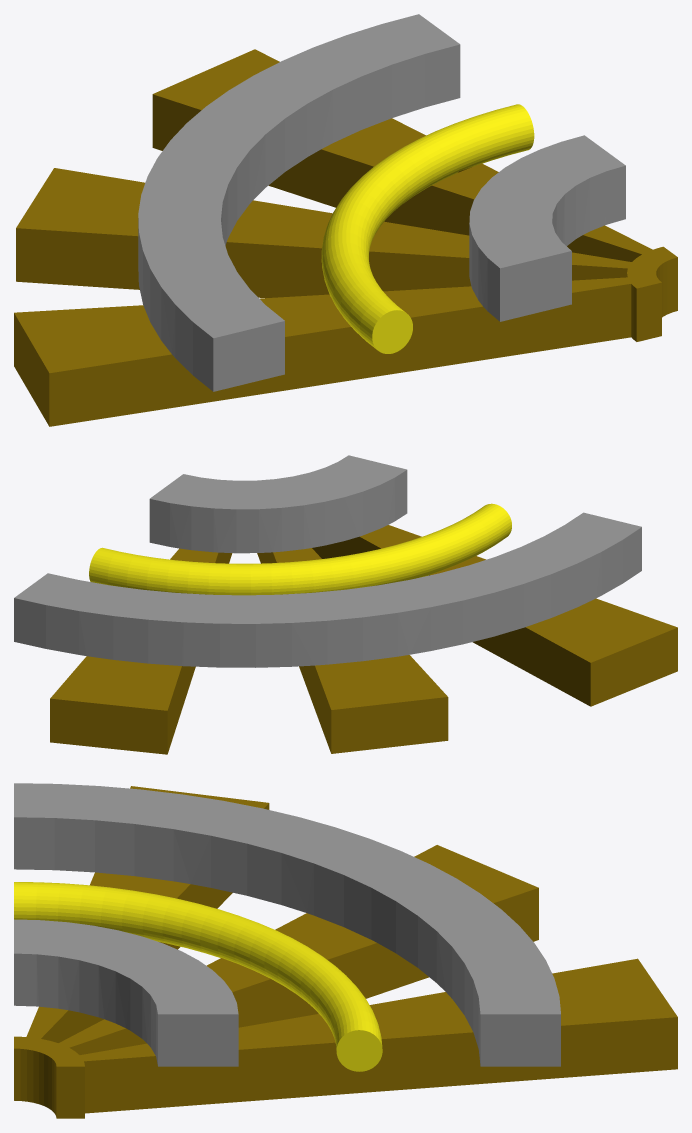
File: rail2.fbx
The picture shows the model from 3 angles, top to bottom: view 1: azimuth 30°, elevation 25°; view 2: azimuth 150°, elevation 25°; view 3: azimuth 270°, elevation 25°; orthographic projection. The views are drawn at different scales.
Parts seen in each view (by area): view 1: Rail2; view 2: Rail2; view 3: Rail2.
Part boxes in pixels (x1,y1,x2,y2): Rail2: (14,14,677,426); Rail2: (14,455,677,754); Rail2: (14,783,677,1118).
Bounding box in the file's own units: 750 × 130 × 750.
